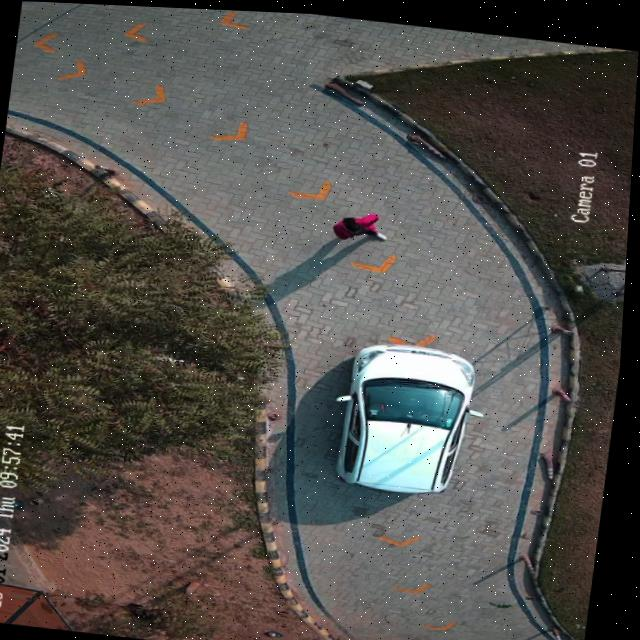car: (341, 339, 485, 488)
